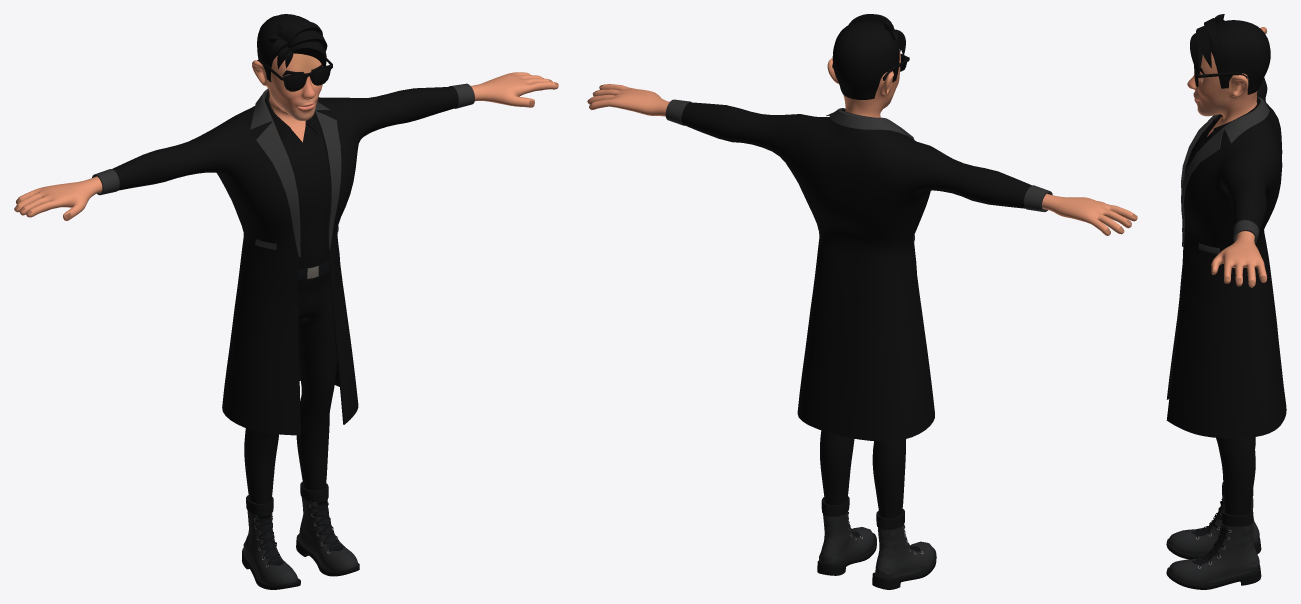
The model's file is Character_4.obj.
3 views of the same model, side by side, from view 1: azimuth 30°, elevation 25°; view 2: azimuth 150°, elevation 25°; view 3: azimuth 270°, elevation 25° (orthographic).
Visible parts, largest first — view 1: D_1_mesh.008, D_3_mesh.004, Body_Vucud.006, Shoes_Forro.001_Plane.020, D_2_mesh.002, Hair_NurbsPath.009, Glass_Sunglasses_frames_Plane.006; view 2: D_1_mesh.008, Shoes_Forro.001_Plane.020, Body_Vucud.006, Hair_NurbsPath.009, D_3_mesh.004; view 3: D_1_mesh.008, Shoes_Forro.001_Plane.020, Body_Vucud.006, Hair_NurbsPath.009, D_3_mesh.004, D_2_mesh.002, Glass_Sunglasses_frames_Plane.006.
Part boxes in pixels (left/top/right/bottom): D_1_mesh.008: left=92, top=83, right=474, bottom=435; D_3_mesh.004: left=244, top=260, right=337, bottom=504; Body_Vucud.006: left=14, top=53, right=558, bottom=220; Shoes_Forro.001_Plane.020: left=242, top=482, right=359, bottom=589; D_2_mesh.002: left=265, top=91, right=330, bottom=269; Hair_NurbsPath.009: left=257, top=14, right=327, bottom=81; Glass_Sunglasses_frames_Plane.006: left=257, top=58, right=332, bottom=91; D_1_mesh.008: left=665, top=99, right=1052, bottom=441; Shoes_Forro.001_Plane.020: left=817, top=496, right=936, bottom=589; Body_Vucud.006: left=587, top=52, right=1137, bottom=235; Hair_NurbsPath.009: left=832, top=14, right=905, bottom=99; D_3_mesh.004: left=820, top=430, right=905, bottom=518; D_1_mesh.008: left=1166, top=77, right=1286, bottom=438; Shoes_Forro.001_Plane.020: left=1166, top=482, right=1261, bottom=589; Body_Vucud.006: left=1187, top=27, right=1267, bottom=287; Hair_NurbsPath.009: left=1190, top=14, right=1270, bottom=94; D_3_mesh.004: left=1216, top=437, right=1255, bottom=515; D_2_mesh.002: left=1185, top=98, right=1260, bottom=172; Glass_Sunglasses_frames_Plane.006: left=1194, top=65, right=1247, bottom=86.
Size of the model in its own units: 7.98 by 7.84 by 1.56.
3 materials, 3 textured.
